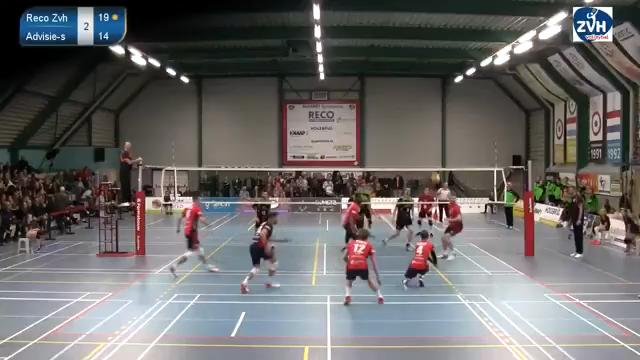ricezione: (400, 224, 445, 294)
